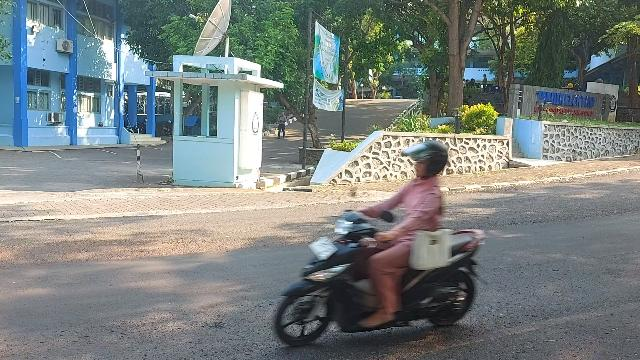helm: (403, 143, 450, 179)
motor: (276, 193, 492, 347)
